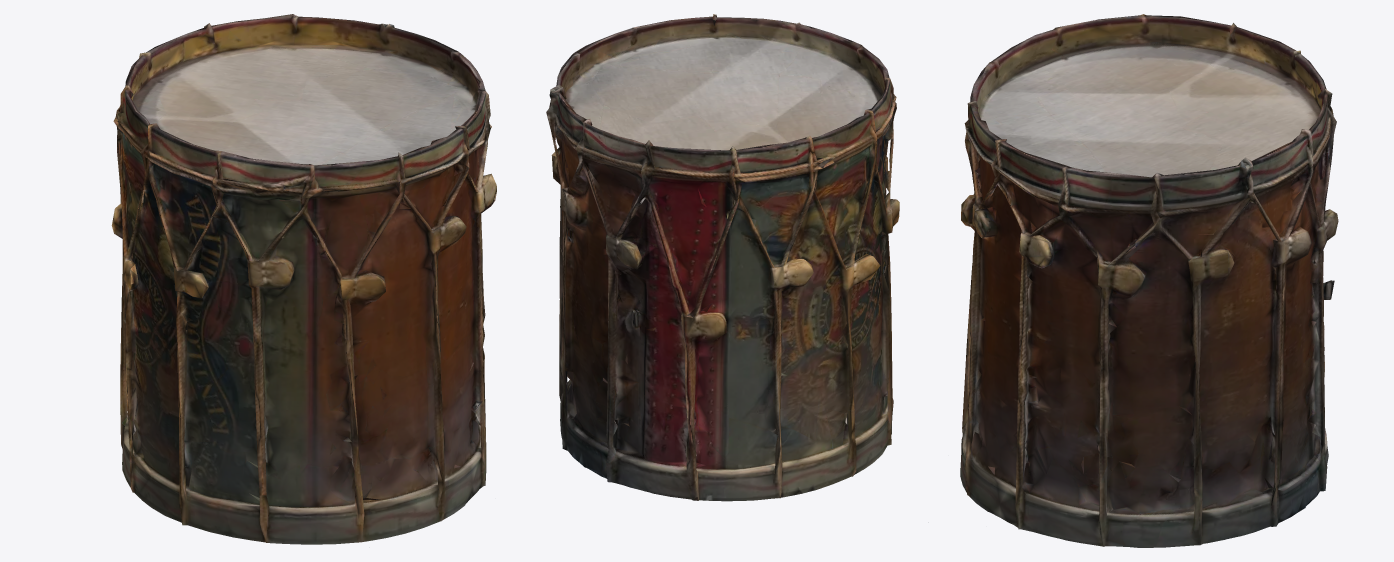
File: sv_sambadrum.glb
The picture shows the model from 3 angles, left to right: view 1: azimuth 30°, elevation 25°; view 2: azimuth 150°, elevation 25°; view 3: azimuth 270°, elevation 25°; orthographic projection. The views are drawn at different scales.
Parts seen in each view (by area): view 1: sv_sambadrum; view 2: sv_sambadrum; view 3: sv_sambadrum.
Boxes of the visible parts, box(x1,y1,x2,y2) form: sv_sambadrum: box(111, 14, 496, 544); sv_sambadrum: box(546, 14, 899, 501); sv_sambadrum: box(960, 14, 1338, 547).
Bounding box in the file's own units: 0.7484 × 0.8125 × 0.8662.
1 material, 1 textured.
